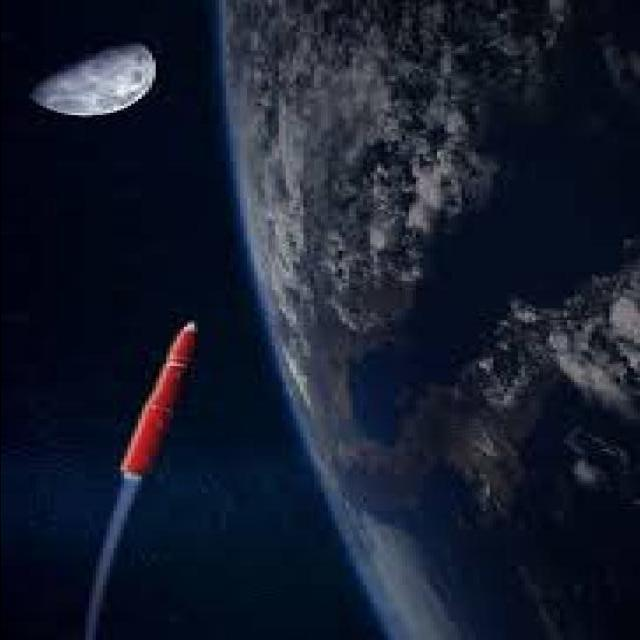Missile: (116, 313, 211, 478)
